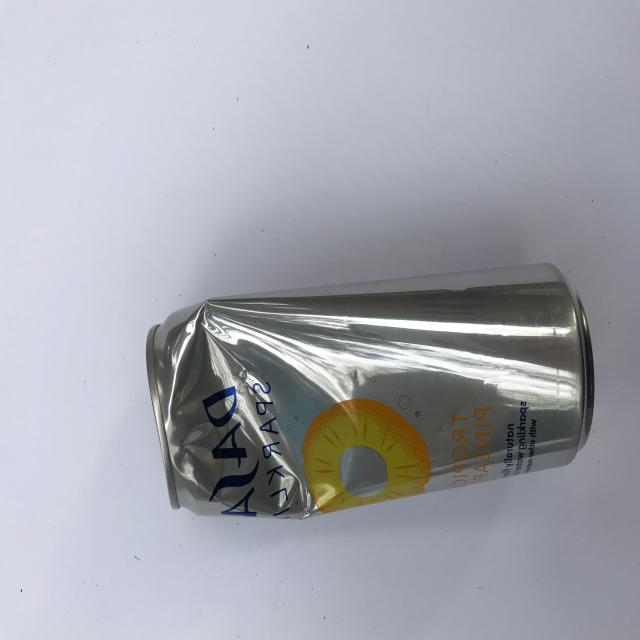metal: (146, 260, 595, 520)
